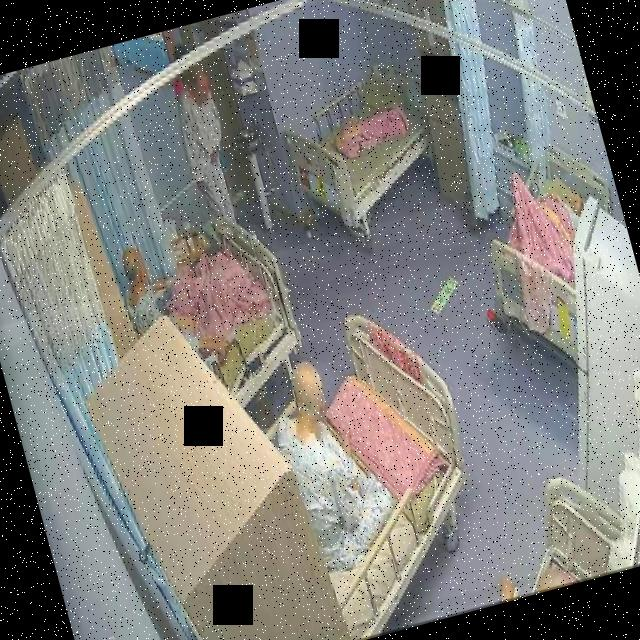bed: (237, 299, 506, 640), (458, 133, 640, 377), (136, 212, 311, 422), (274, 50, 452, 239)
lie: (486, 150, 606, 298)
patient: (256, 351, 404, 575), (112, 228, 228, 382), (166, 58, 252, 242)
sit: (254, 348, 404, 574), (110, 216, 268, 384)
stand: (167, 59, 250, 239)
